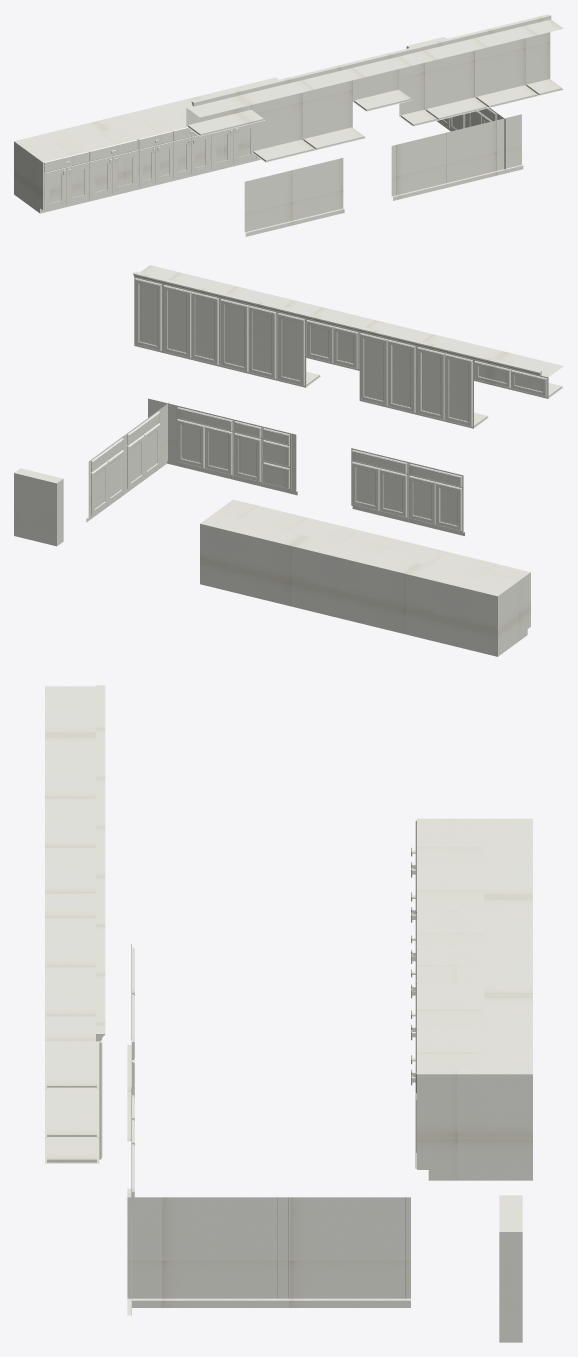
The model's file is 1860_kitchen_cabinets_linen.gltf.
3 views of the same model, one above another, from view 1: azimuth 30°, elevation 25°; view 2: azimuth 150°, elevation 25°; view 3: azimuth 270°, elevation 25° (orthographic). The views are drawn at different scales.
Visible parts, largest first — view 1: Kitchen Cabinets Linen; view 2: Kitchen Cabinets Linen; view 3: Kitchen Cabinets Linen.
Part boxes in pixels (left/top/right/bottom): Kitchen Cabinets Linen: left=14, top=14, right=563, bottom=236; Kitchen Cabinets Linen: left=14, top=265, right=563, bottom=656; Kitchen Cabinets Linen: left=45, top=685, right=532, bottom=1342.
Bounding box in the file's own units: 8.5 × 2.93 × 4.2.
Materials: 1 (1 with a texture image).
